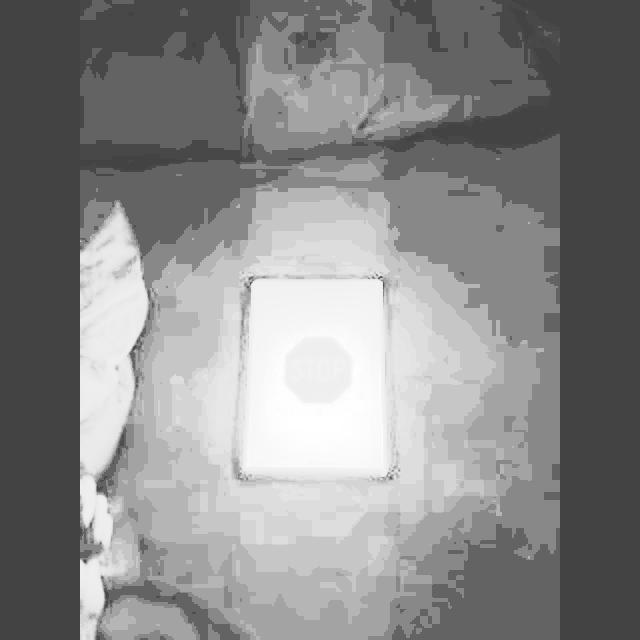STOP: (284, 335, 354, 405)
